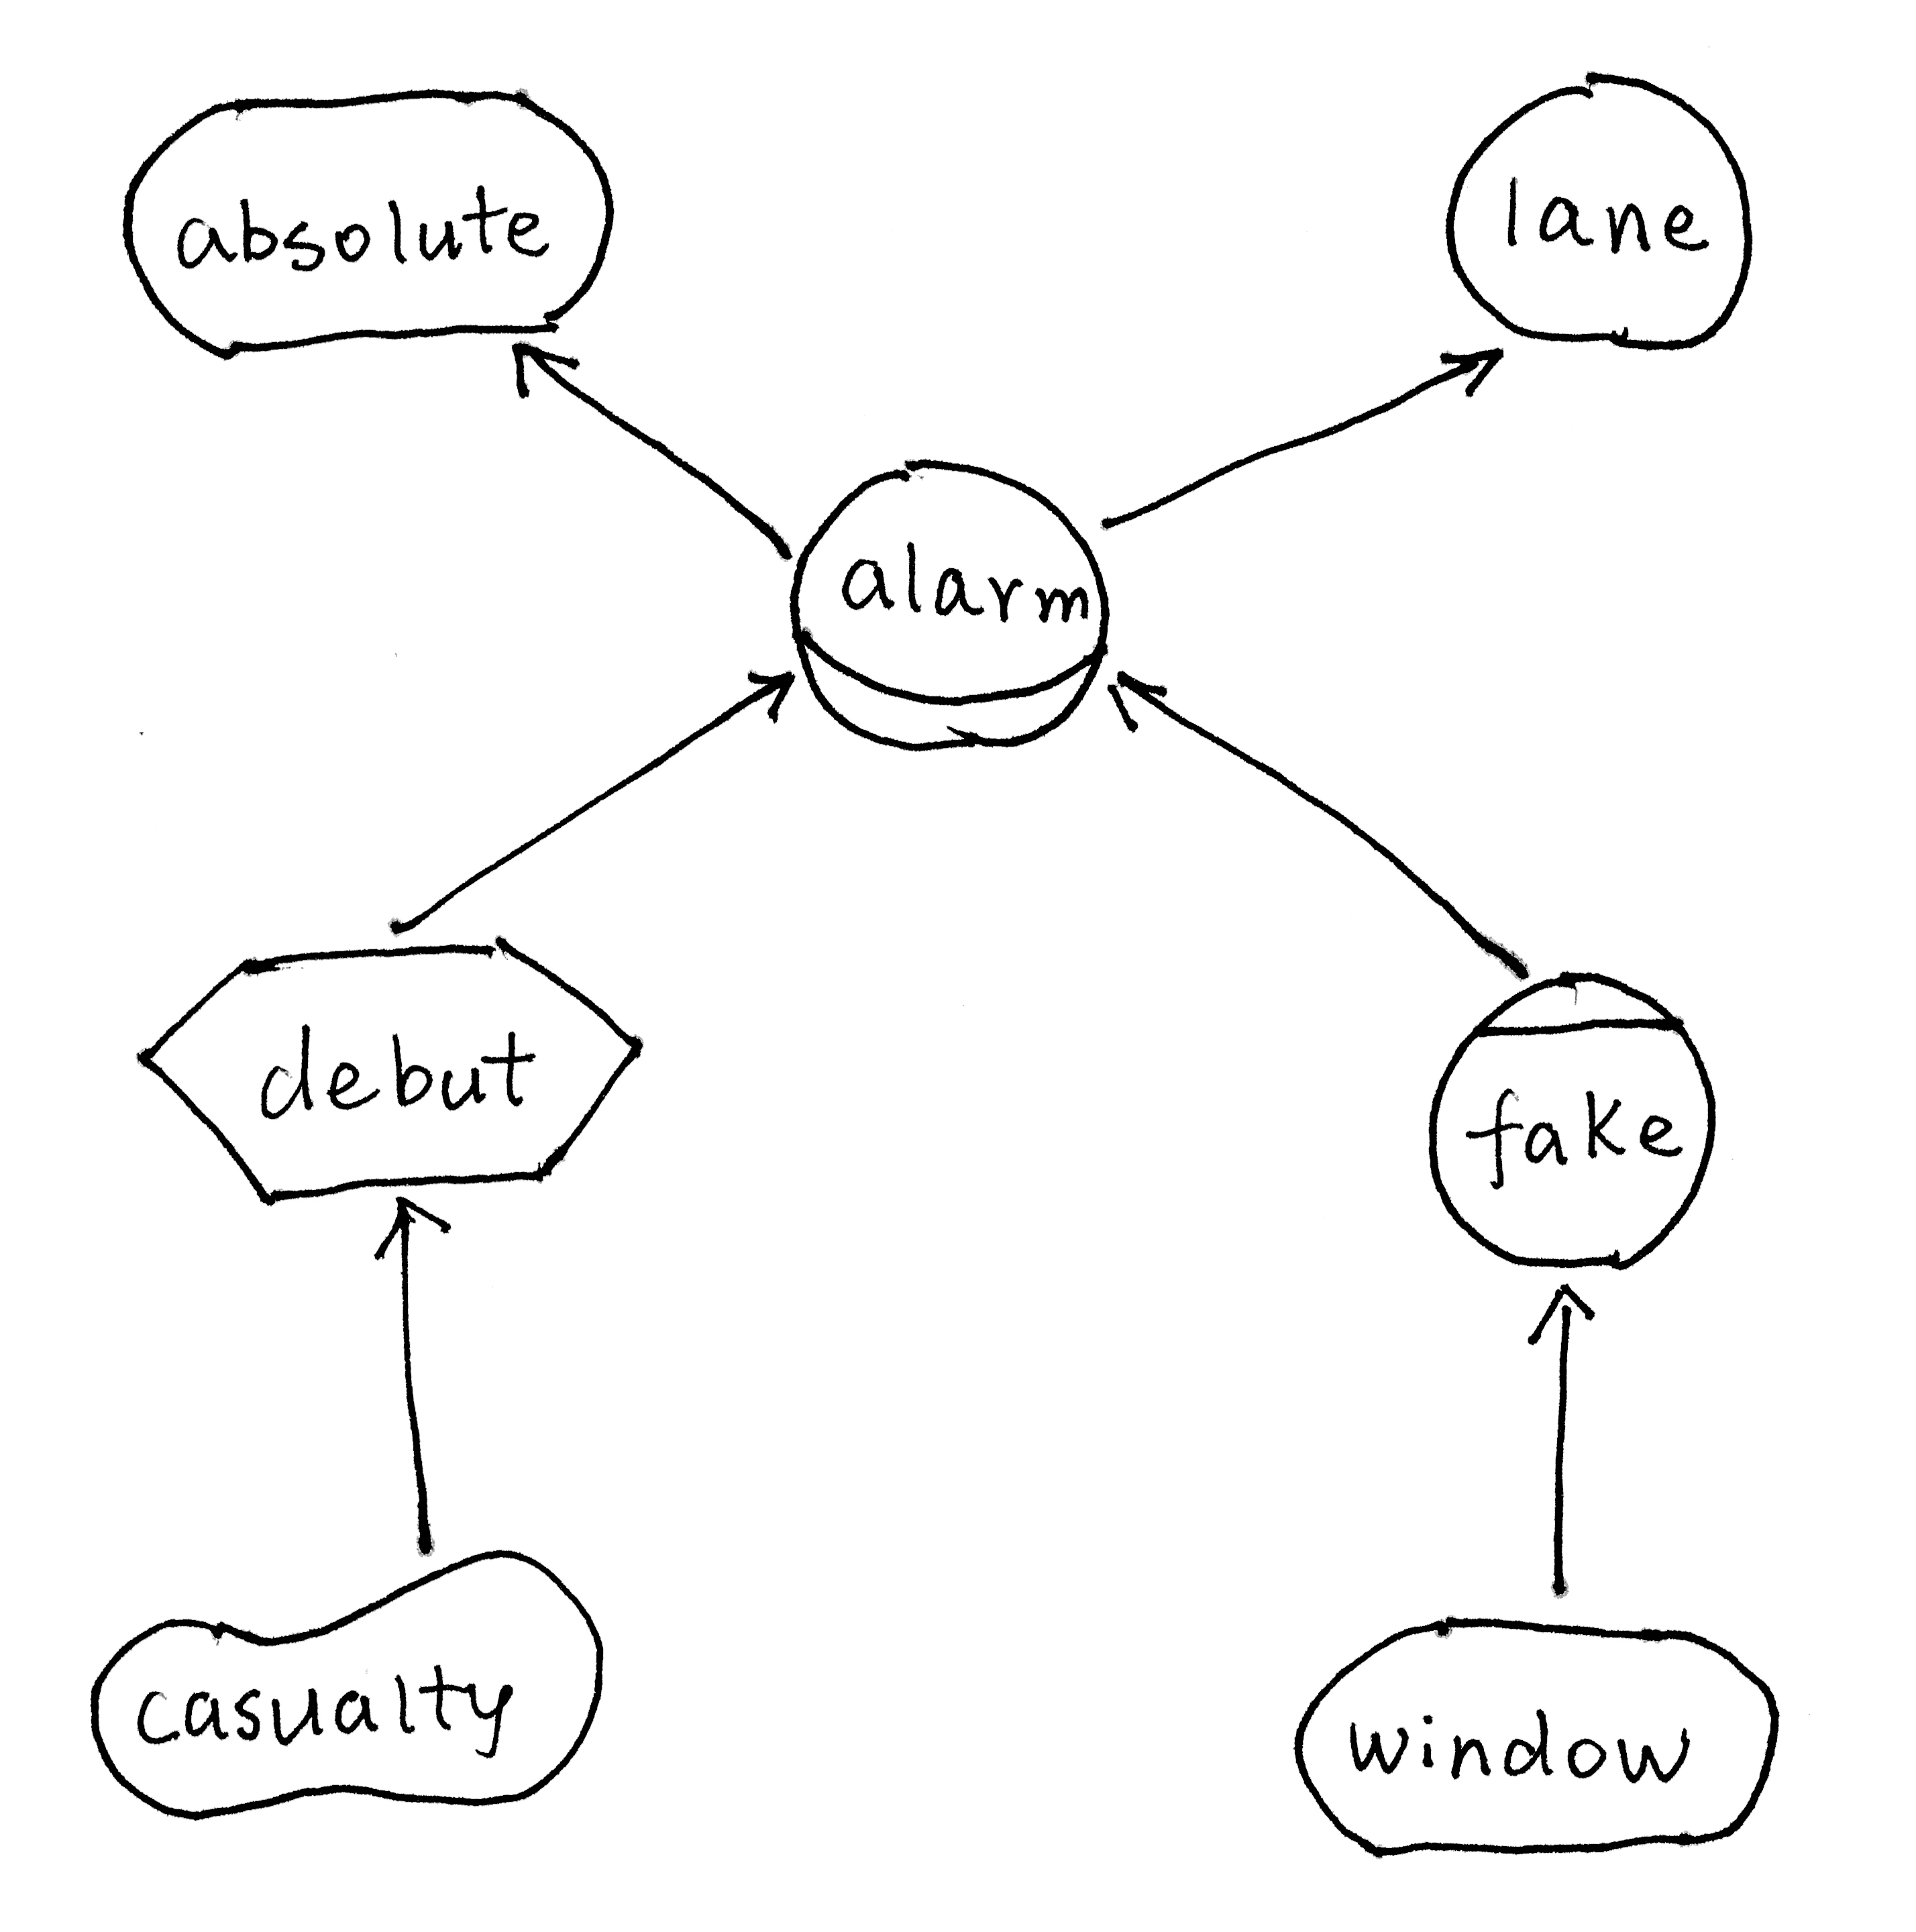actor: (1425, 54, 1772, 381)
agent: (1407, 949, 1727, 1293)
arrow: (491, 318, 595, 426), (1505, 1260, 1612, 1363), (356, 1177, 465, 1270), (1093, 649, 1190, 749), (1419, 333, 1521, 407), (719, 649, 807, 726)
goal: (109, 70, 632, 370), (1263, 1597, 1807, 1879)
quality: (68, 1525, 616, 1834)
role: (761, 442, 1140, 770)
task: (118, 930, 663, 1223)
